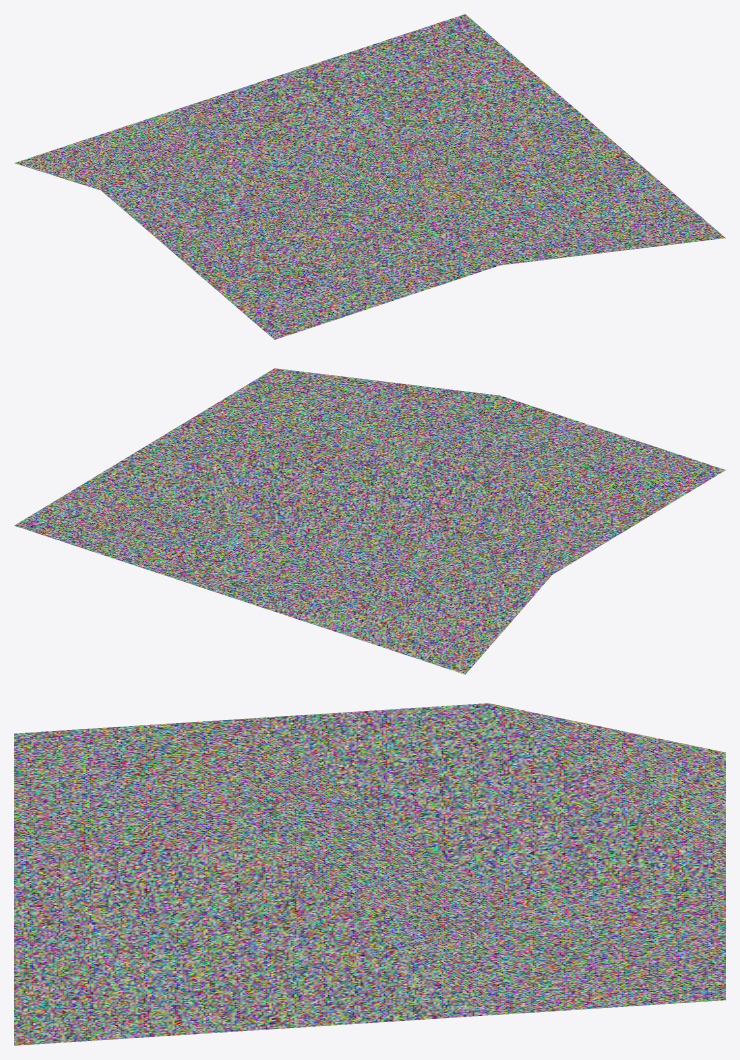
File: marble.glb
The picture shows the model from 3 angles, top to bottom: view 1: azimuth 30°, elevation 25°; view 2: azimuth 150°, elevation 25°; view 3: azimuth 270°, elevation 25°; orthographic projection. The views are drawn at different scales.
Visible parts, largest first — view 1: marble; view 2: marble; view 3: marble.
Part boxes in pixels (box(x1,y1,x2,y2)): marble: box(14, 14, 725, 339); marble: box(14, 368, 725, 674); marble: box(14, 703, 725, 1045).
Bounding box in the file's own units: 1 × 0.0941 × 1.
1 material, 1 textured.
